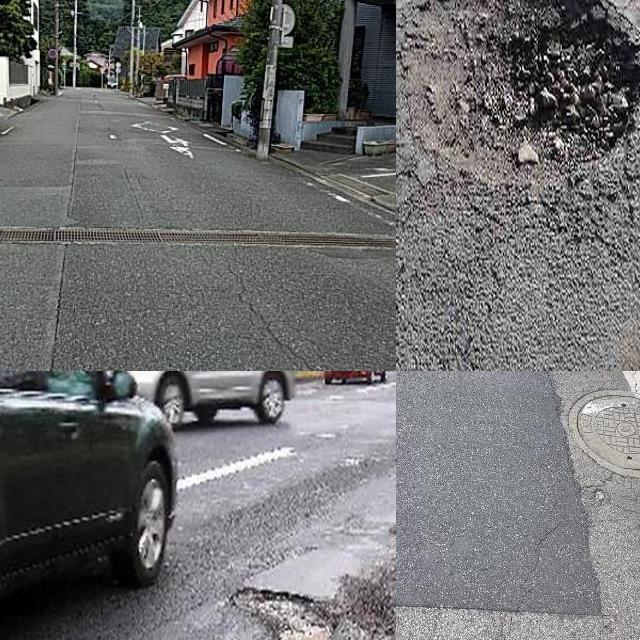Lubang: (396, 0, 640, 178)
Melintang: (0, 221, 396, 257)
Memanjang: (36, 240, 79, 371)
Sambungan: (396, 371, 609, 615)
